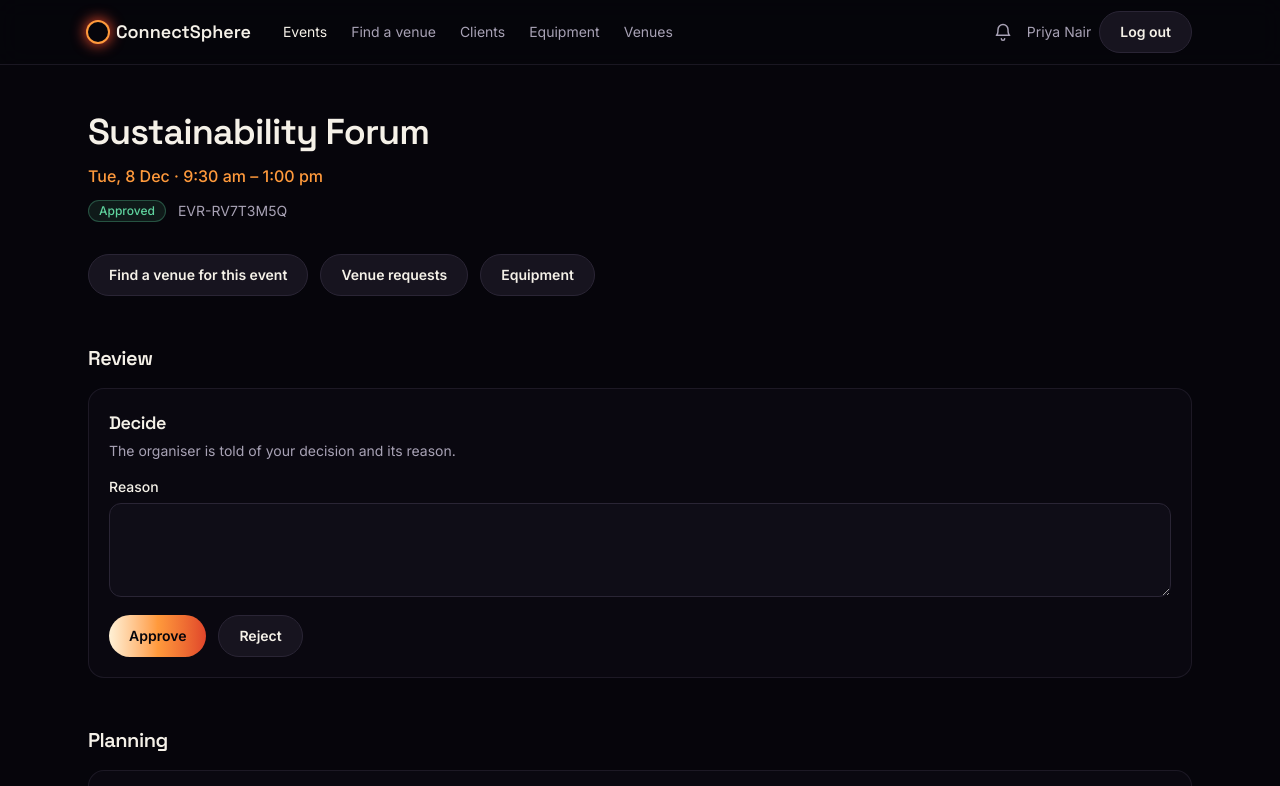
SCRUM-31 AC4, AC6 deciding › offers a change of a decision that is locked, and shows the backend's refusal (AC7)
Type "Too late now." into the text box labelled "Reason" at {"x": 640, "y": 550}, box [109,503,1171,597]
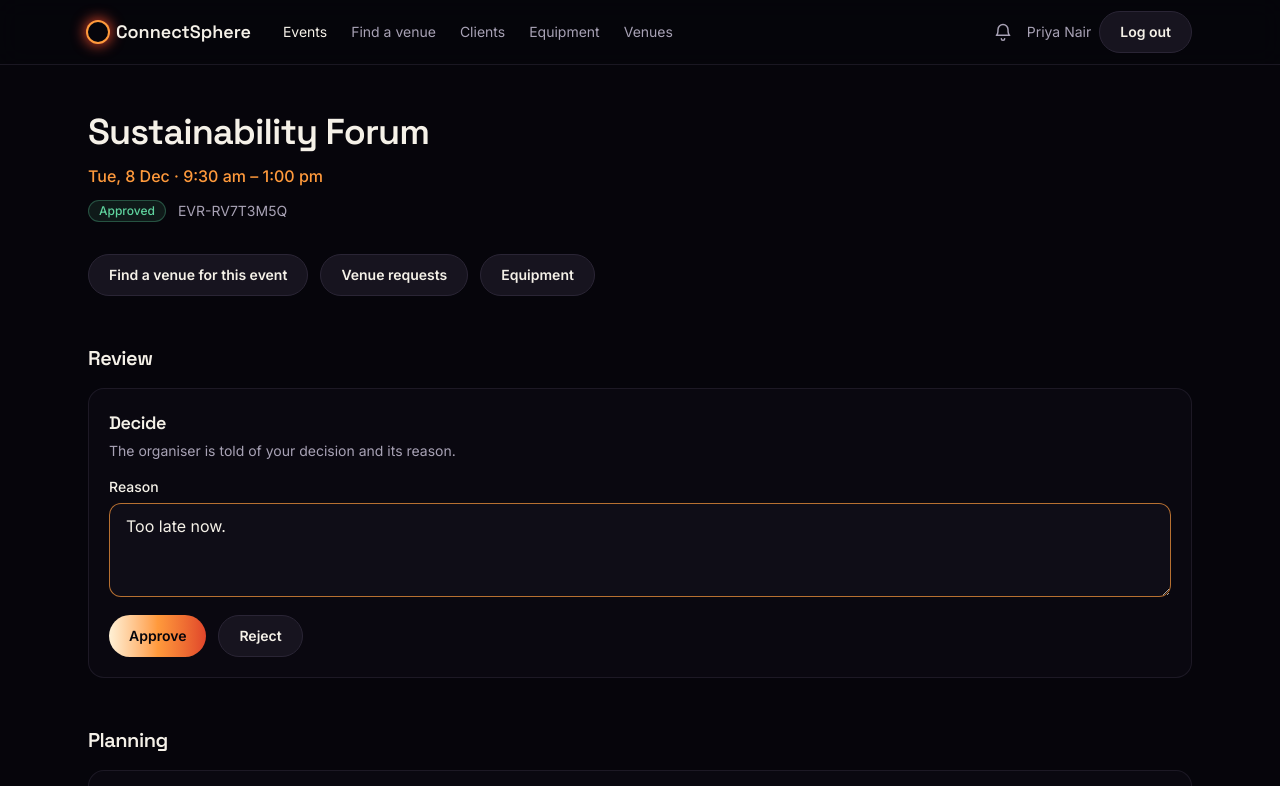
Click the button "Reject" at {"x": 261, "y": 636}, box [218,615,303,657]
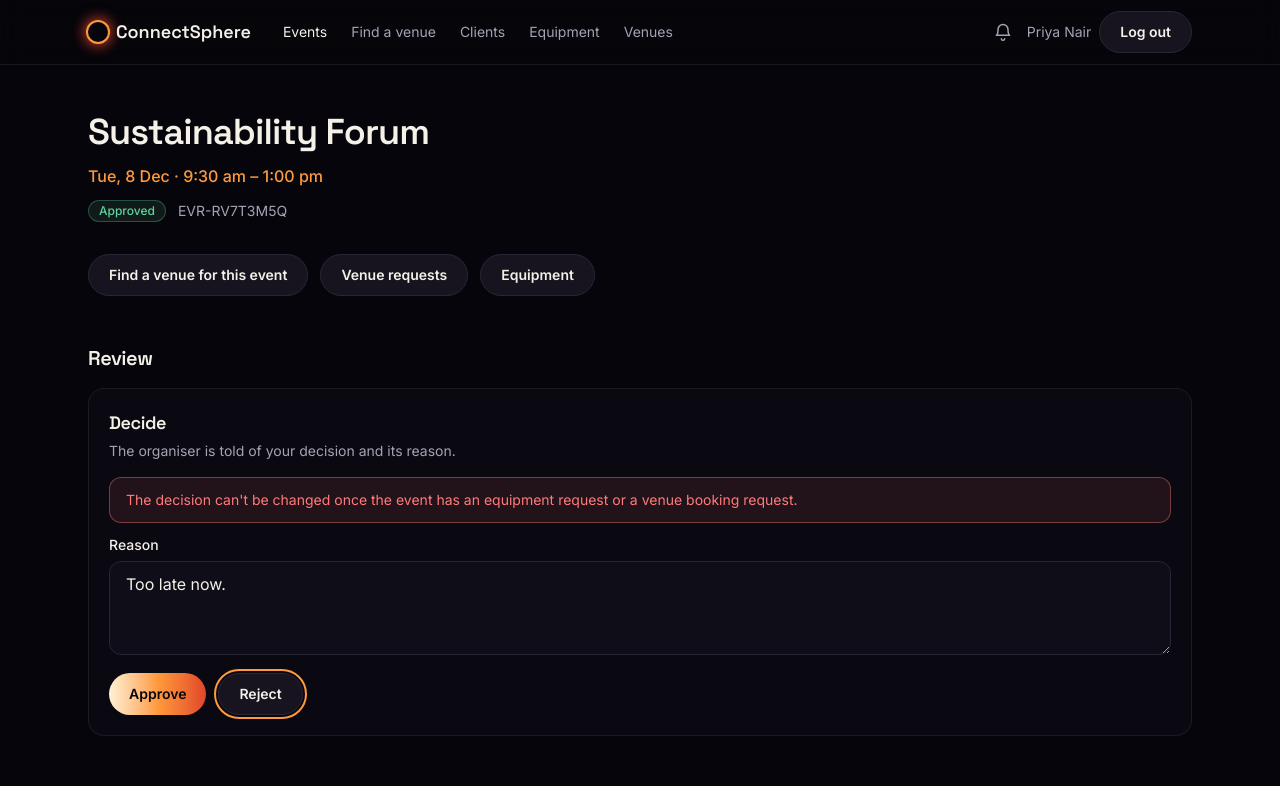
Expected: the text "Approved" is shown, [88,200,166,222]
Result: the message shows "The decision can't be changed once the event has an equipment request or a venue booking request." at [126,491,798,508]
